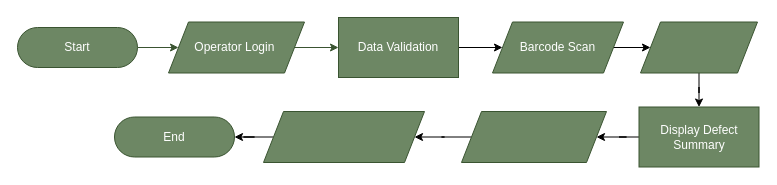
The diagram is 777 pixels wide and 185 high, and some of its shapes have lost their labels. The shapes that lost their labels are listed below. From the top down, each one's box as (x1, y1, x2, y2) in pixels, then its label:
(640, 21, 758, 73): Select Defect
(262, 110, 424, 162): (Optional: Export/Print Report)
(460, 110, 606, 162): Save to Database
